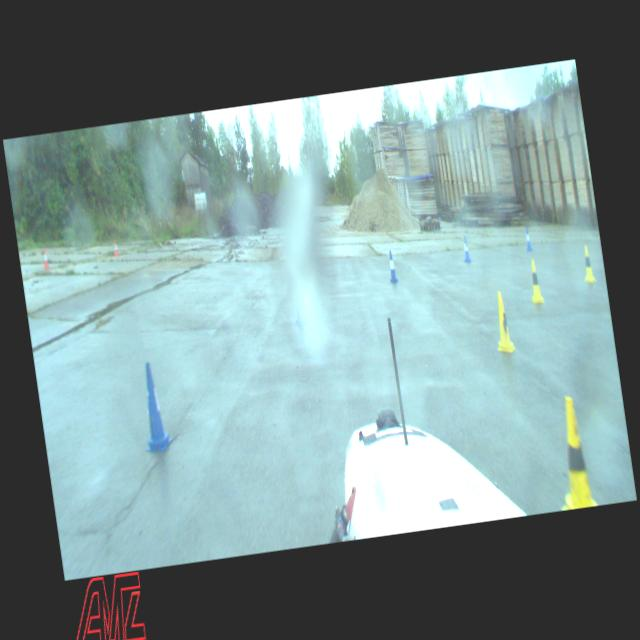blue_cone: (136, 360, 170, 450), (290, 278, 308, 328), (387, 250, 398, 283), (462, 236, 472, 263), (524, 227, 532, 250)
orange_cone: (41, 248, 50, 270), (113, 240, 119, 256)
yellow_cone: (552, 394, 598, 509), (491, 290, 514, 352), (526, 259, 544, 303), (581, 244, 596, 283)
